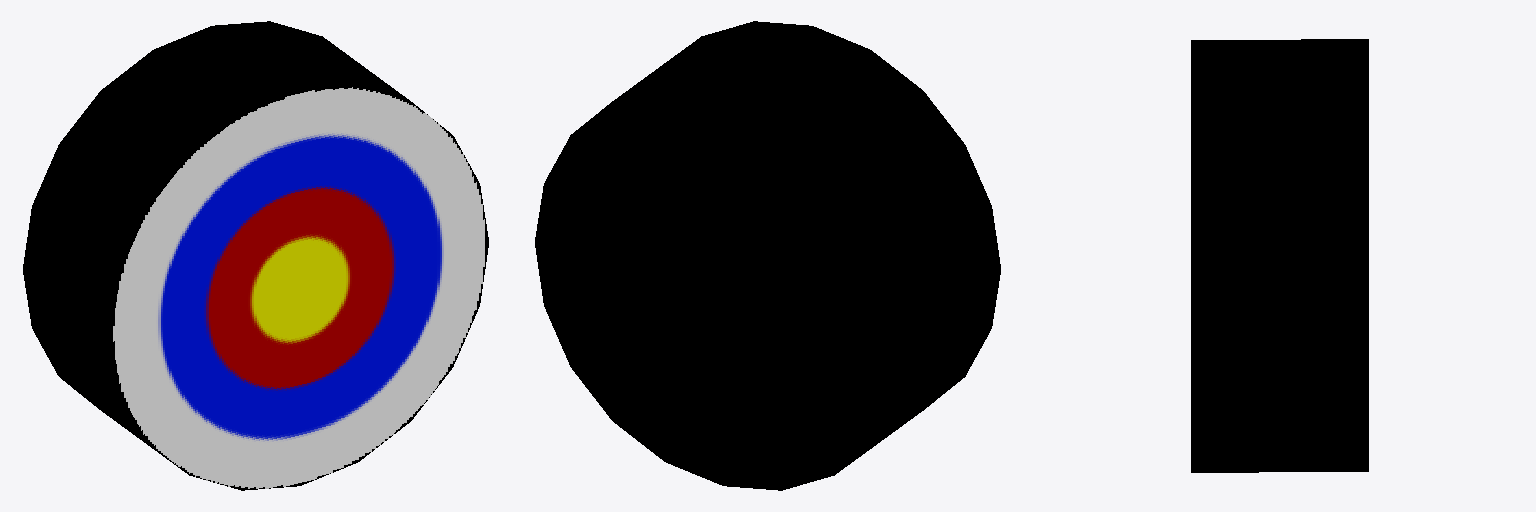
3 views of the same model, side by side, from view 1: azimuth 30°, elevation 25°; view 2: azimuth 150°, elevation 25°; view 3: azimuth 270°, elevation 25° (orthographic).
Parts seen in each view (by area): view 1: pCylinder1; view 2: pCylinder1; view 3: pCylinder1.
Boxes of the visible parts, box(x1,y1,x2,y2) form: pCylinder1: box(23, 21, 488, 490); pCylinder1: box(535, 21, 1000, 490); pCylinder1: box(1191, 39, 1368, 472).
Size of the model in its own units: 2 by 2 by 0.8171.
1 materials, 1 textured.